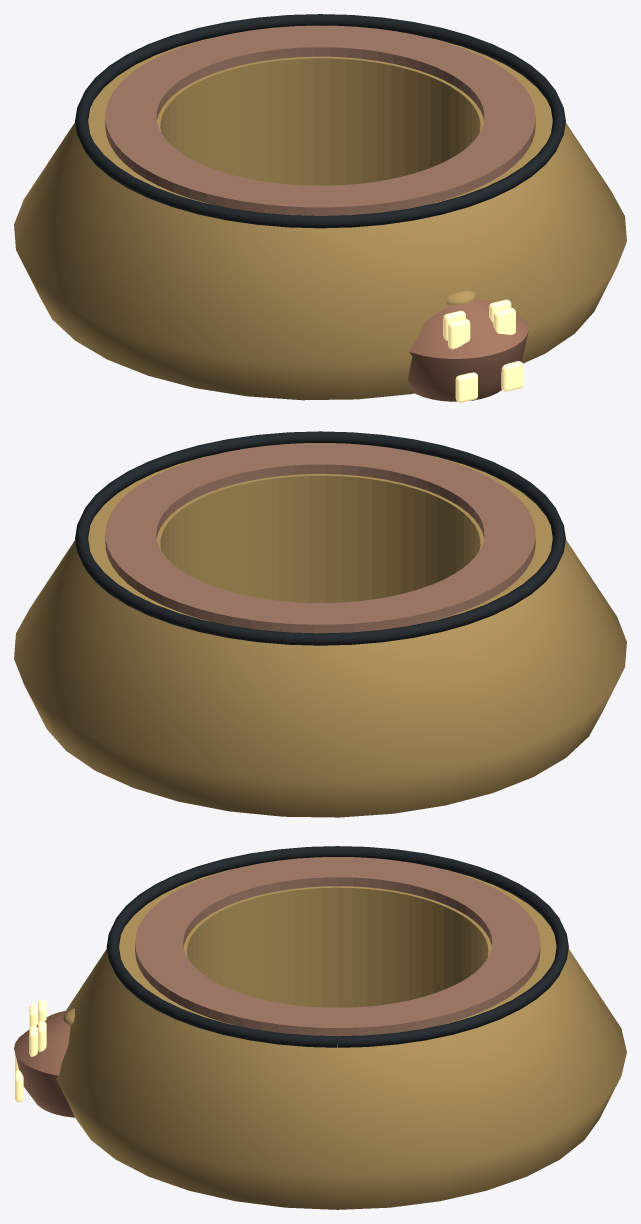
3 renders of one model, top to bottom at view 1: azimuth 30°, elevation 25°; view 2: azimuth 150°, elevation 25°; view 3: azimuth 270°, elevation 25°, orthographic. The views are drawn at different scales.
Visible parts, largest first — view 1: Silo flared bunker, Permanently exposed silo throat, Silo lid seam, Bulb shaped chamber, Inset service window, Inset service window.001, Inset service window.002, Inset service window.003; view 2: Silo flared bunker, Permanently exposed silo throat, Silo lid seam; view 3: Silo flared bunker, Permanently exposed silo throat, Silo lid seam, Bulb shaped chamber.
Part boxes in pixels (x1,y1,x2,y2): Silo flared bunker: [14, 38, 626, 400]; Permanently exposed silo throat: [105, 25, 535, 215]; Silo lid seam: [75, 14, 565, 228]; Bulb shaped chamber: [407, 299, 528, 401]; Inset service window: [455, 372, 477, 402]; Inset service window.001: [501, 361, 523, 391]; Inset service window.002: [448, 319, 470, 349]; Inset service window.003: [493, 308, 515, 334]; Silo flared bunker: [14, 455, 626, 817]; Permanently exposed silo throat: [105, 443, 535, 633]; Silo lid seam: [75, 431, 565, 645]; Silo flared bunker: [56, 868, 626, 1209]; Permanently exposed silo throat: [135, 857, 540, 1036]; Silo lid seam: [106, 846, 568, 1047]; Bulb shaped chamber: [14, 1010, 74, 1117].
Bounding box in the file's own units: 2.34 × 0.695 × 2.48.
